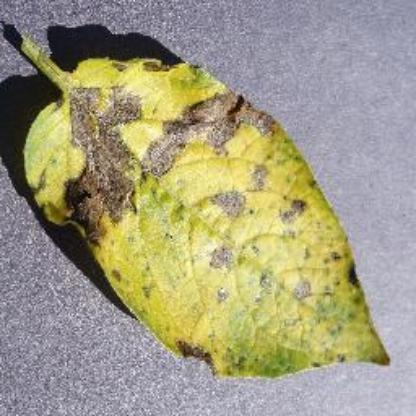Early-Blight: (12, 26, 392, 369)
